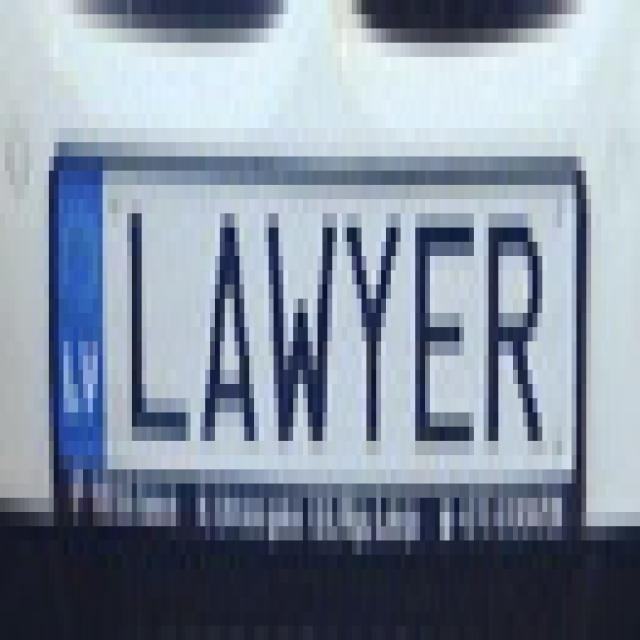A: (198, 185, 260, 460)
E: (408, 194, 481, 459)
L: (122, 175, 194, 464)
R: (484, 182, 554, 472)
W: (264, 181, 340, 468)
Y: (342, 190, 404, 467)
